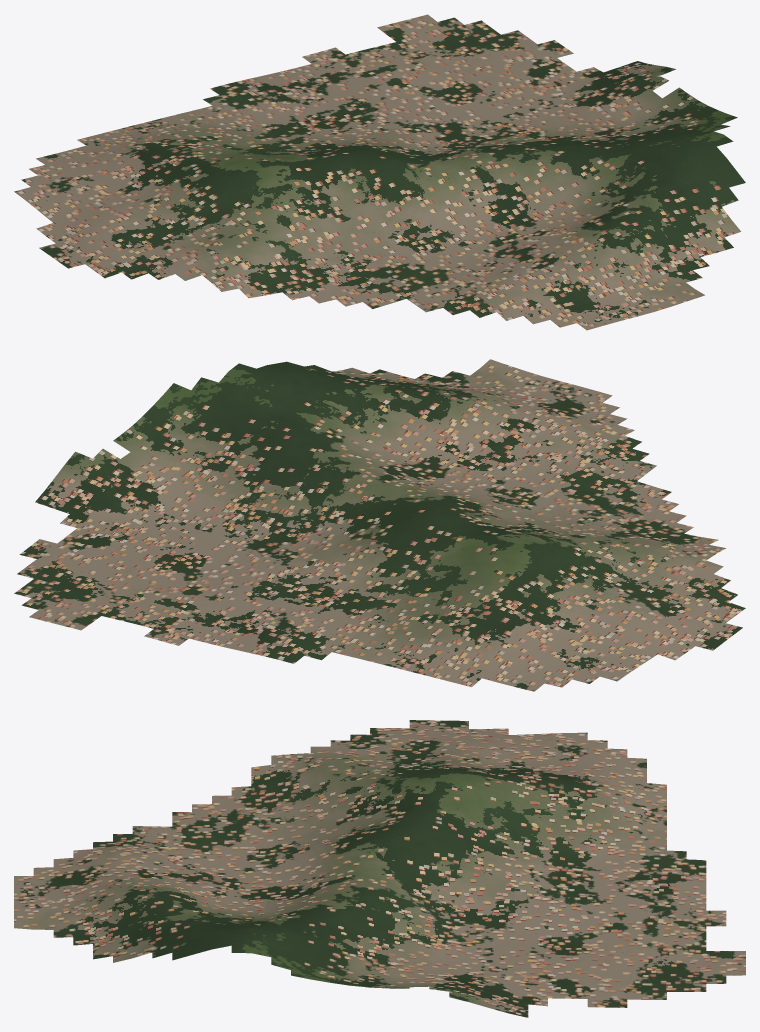
Rendered from SM_Fondale_Colle_Suolo_01_LOD1.fbx.
The picture shows the model from 3 angles, top to bottom: view 1: azimuth 30°, elevation 25°; view 2: azimuth 150°, elevation 25°; view 3: azimuth 270°, elevation 25°; orthographic projection. The views are drawn at different scales.
Parts seen in each view (by area): view 1: SM_Fondale_Colle_Suolo_01_LOD1; view 2: SM_Fondale_Colle_Suolo_01_LOD1; view 3: SM_Fondale_Colle_Suolo_01_LOD1.
Part boxes in pixels (x1,y1,x2,y2): SM_Fondale_Colle_Suolo_01_LOD1: (14,14,745,330); SM_Fondale_Colle_Suolo_01_LOD1: (14,359,745,691); SM_Fondale_Colle_Suolo_01_LOD1: (14,720,745,1017).
Bounding box in the file's own units: 118215 × 118215 × 9304.
Materials: 1 (1 with a texture image).
